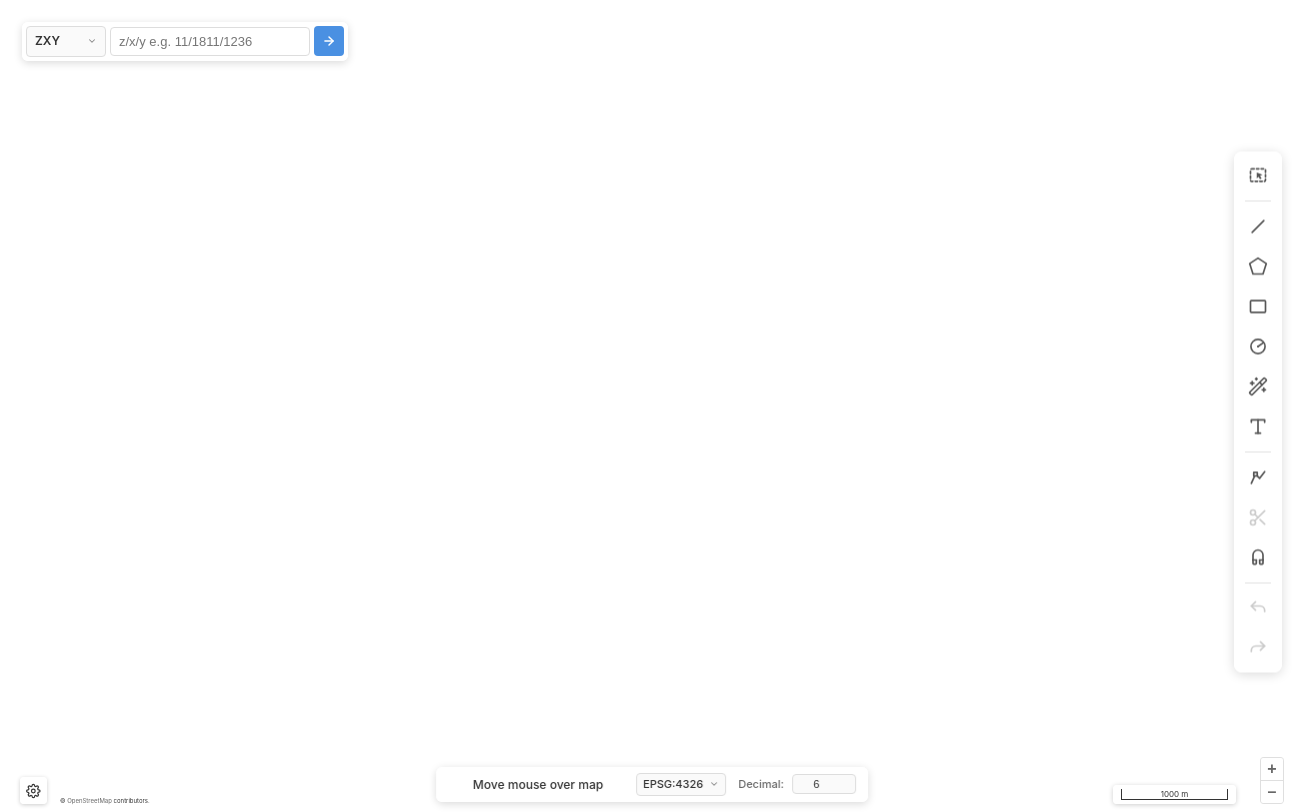
toolbar edit-vertices tool mirrors the geometry edit session
Click the button titled "Settings" at (33, 791), box 20,777 -> 47,804
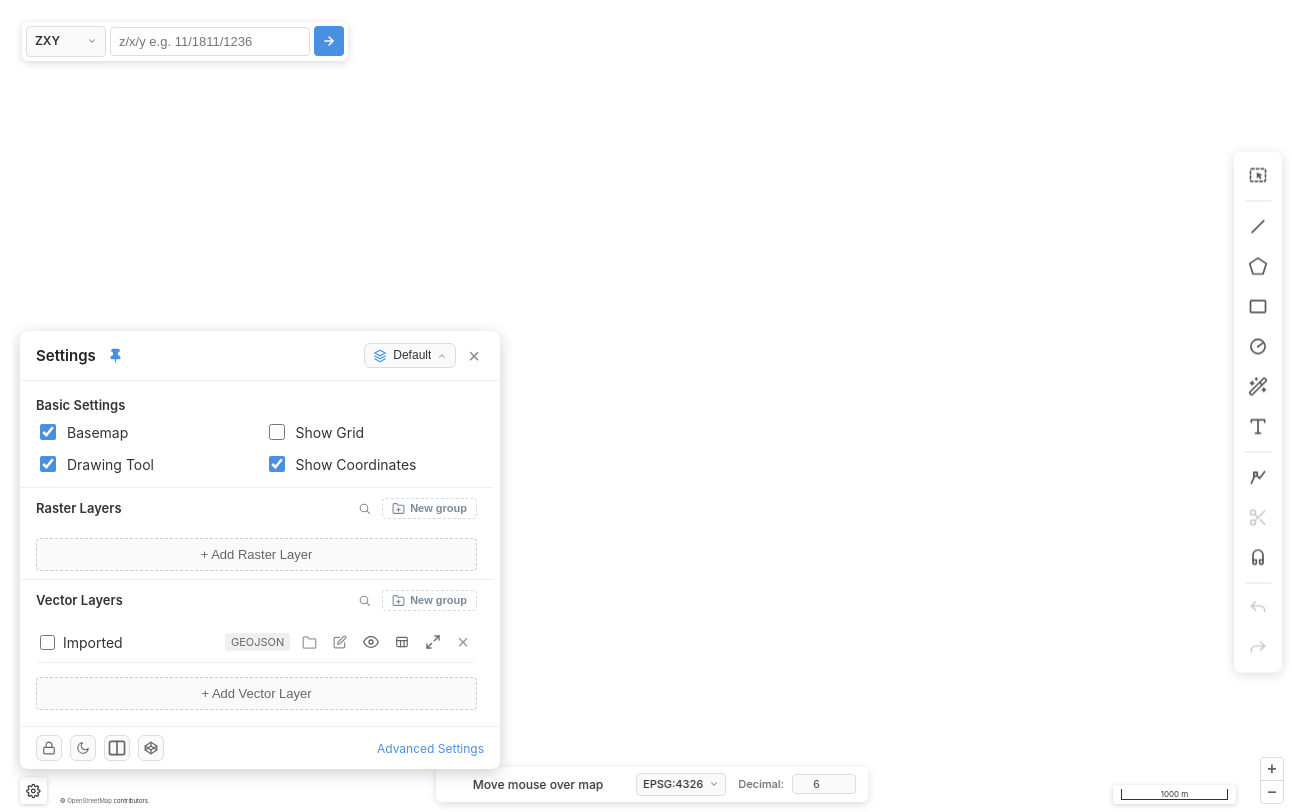
Now the text "Imported" is shown, box 63,634 -> 123,651
Click the button titled "Edit layer" at (340, 642), box 329,631 -> 351,653
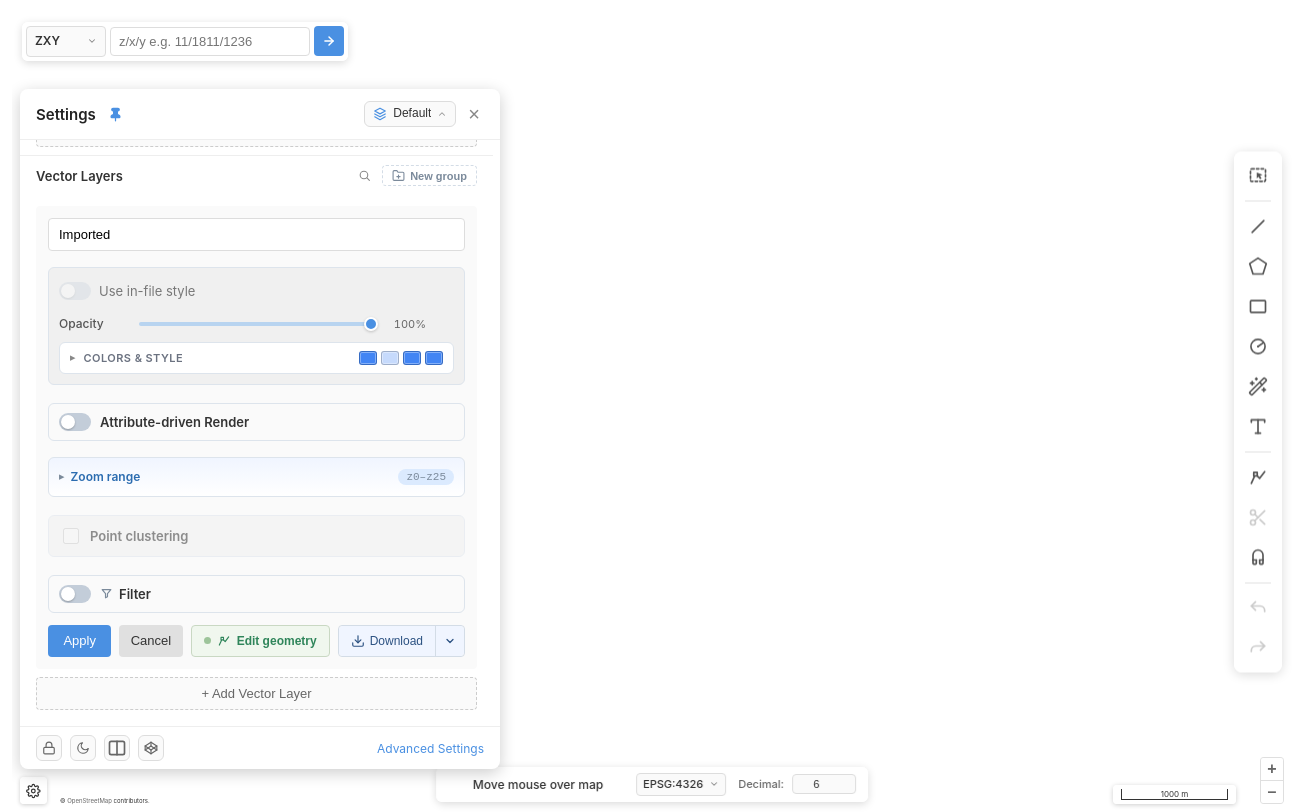
Click the button "Edit geometry" at (260, 641), box 191,625 -> 330,657
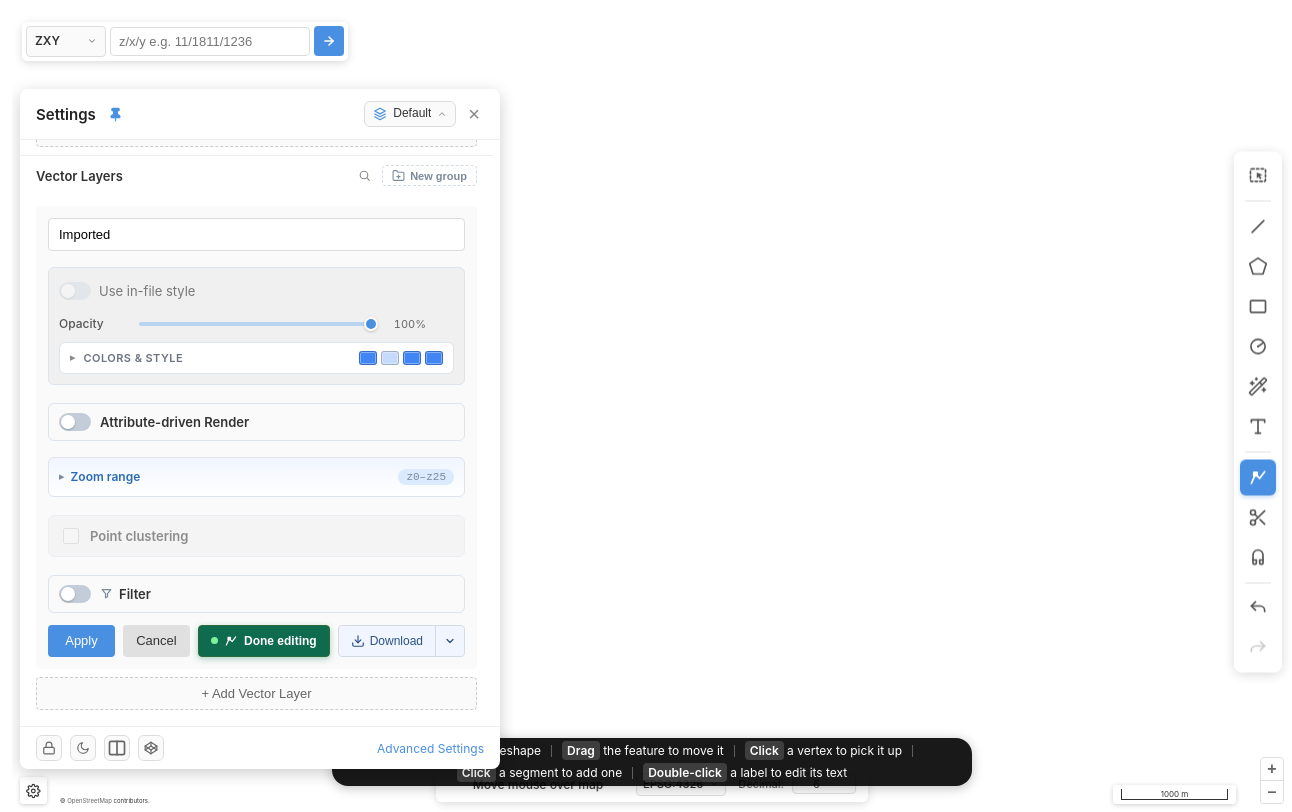
Now the button titled "Edit vertices — drag to reshape drawn features" has class "active"
Click the button titled "Edit vertices — drag to reshape drawn features" at (1258, 478), box 1240,460 -> 1276,496
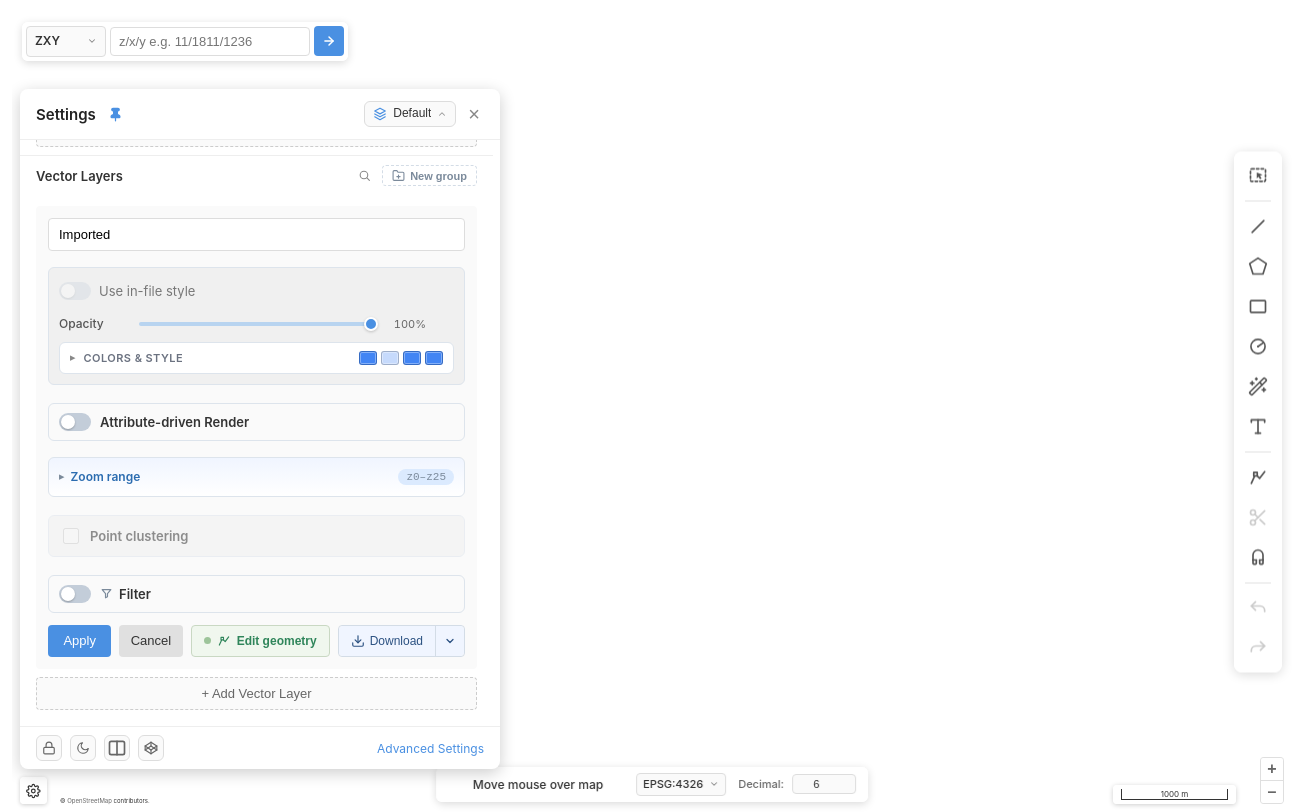
Now the button "Edit geometry" is shown, box 191,625 -> 330,657
Now the message with class "draw-modify-hint" is gone
